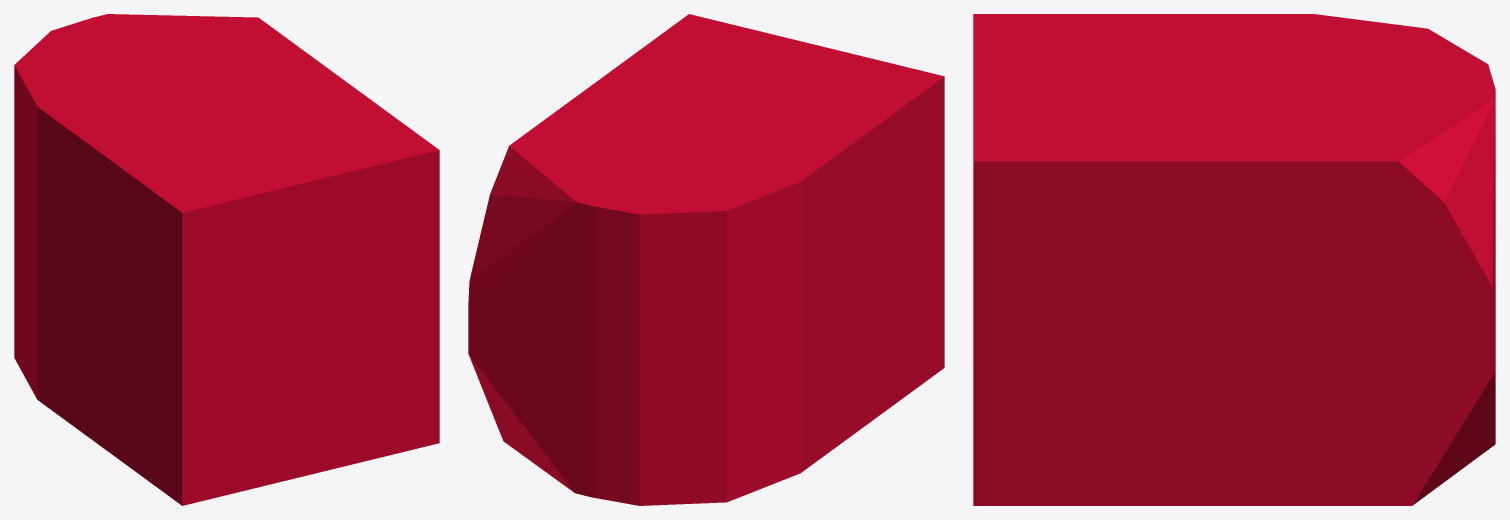
3 renders of one model, left to right at view 1: azimuth 30°, elevation 25°; view 2: azimuth 150°, elevation 25°; view 3: azimuth 270°, elevation 25°, orthographic. The views are drawn at different scales.
Size of the model in its own units: 2.55 by 2.78 by 3.82.
